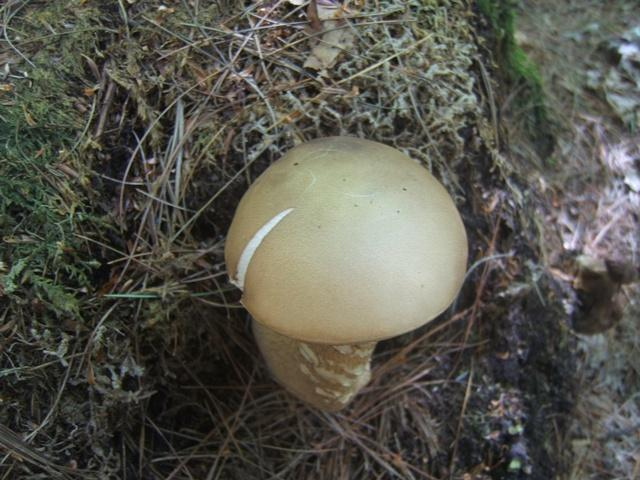poisonous_mushroom: (222, 133, 469, 412)
